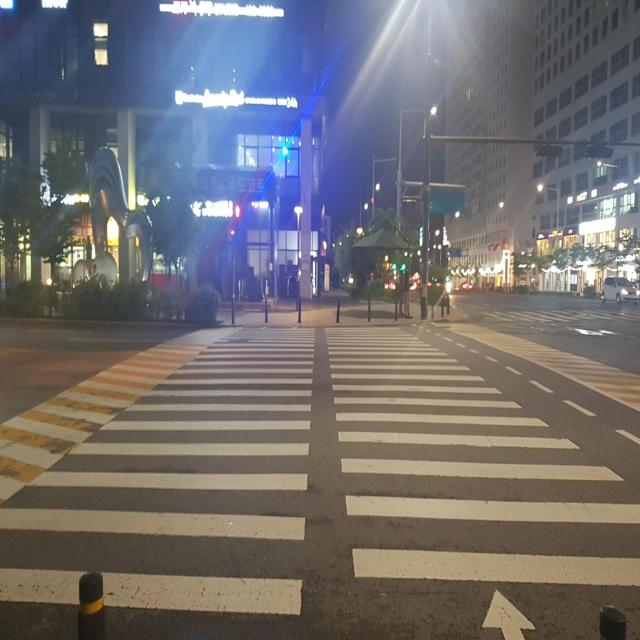빨간불: (233, 202, 240, 233)
횡단보도: (0, 324, 640, 640), (458, 303, 638, 325)
